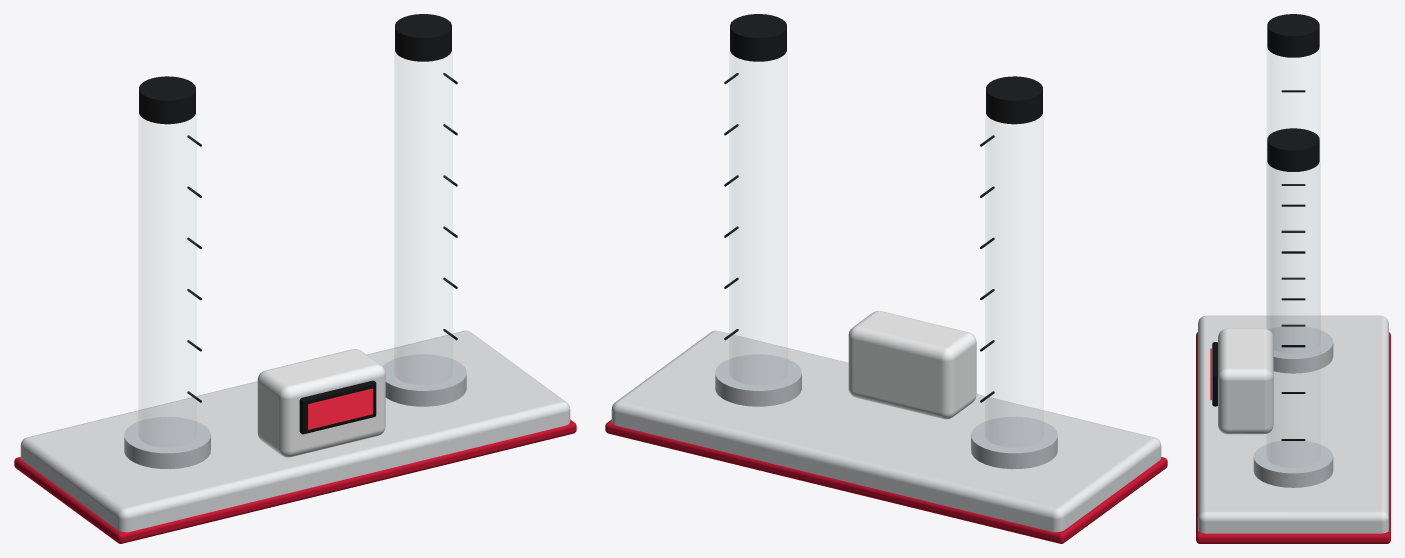
The model's file is nsd-4.glb.
The picture shows the model from 3 angles, left to right: view 1: azimuth 30°, elevation 25°; view 2: azimuth 150°, elevation 25°; view 3: azimuth 270°, elevation 25°; orthographic projection. The views are drawn at different scales.
Size of the model in its own units: 0.61 by 0.5 by 0.245.
